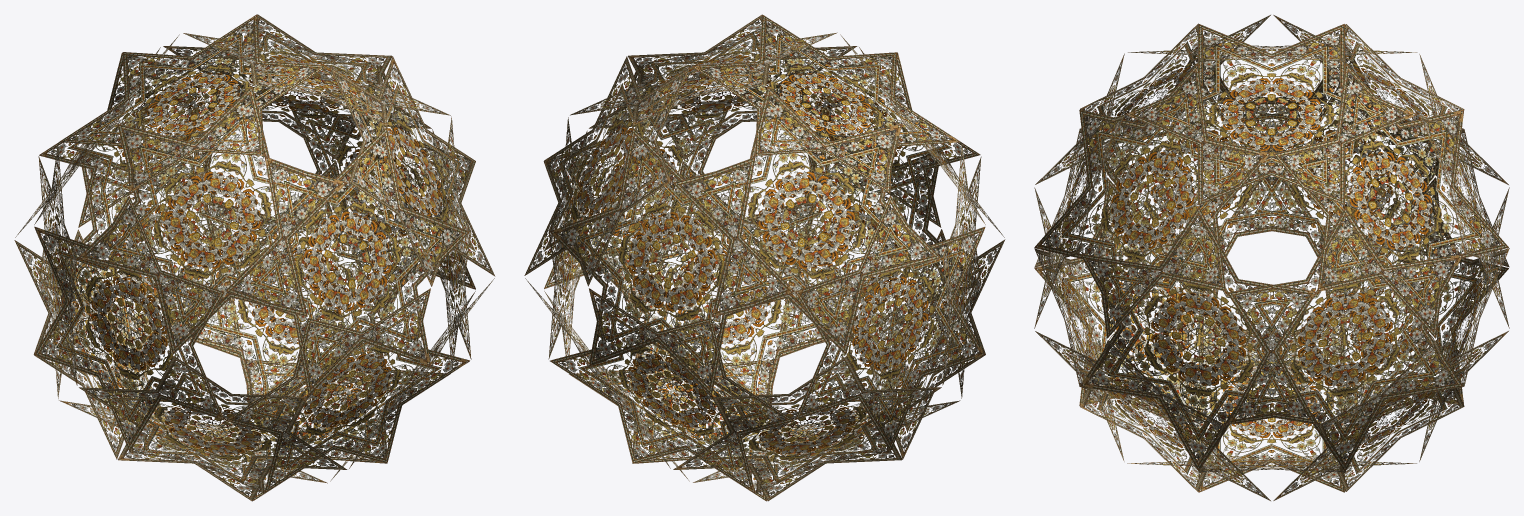
Rendered from SmallIcosicosidodecahedron12.gltf.
The picture shows the model from 3 angles, left to right: view 1: azimuth 30°, elevation 25°; view 2: azimuth 150°, elevation 25°; view 3: azimuth 270°, elevation 25°; orthographic projection. The views are drawn at different scales.
Parts seen in each view (by area): view 1: SmallIcosicosidodecahedron; view 2: SmallIcosicosidodecahedron; view 3: SmallIcosicosidodecahedron.
Boxes of the visible parts, x1=… form: SmallIcosicosidodecahedron: x1=14, y1=14, x2=495, y2=501; SmallIcosicosidodecahedron: x1=524, y1=14, x2=1005, y2=501; SmallIcosicosidodecahedron: x1=1034, y1=15, x2=1509, y2=500.
Size of the model in its own units: 3.24 by 3.24 by 3.24.
Materials: 1 (1 with a texture image).
